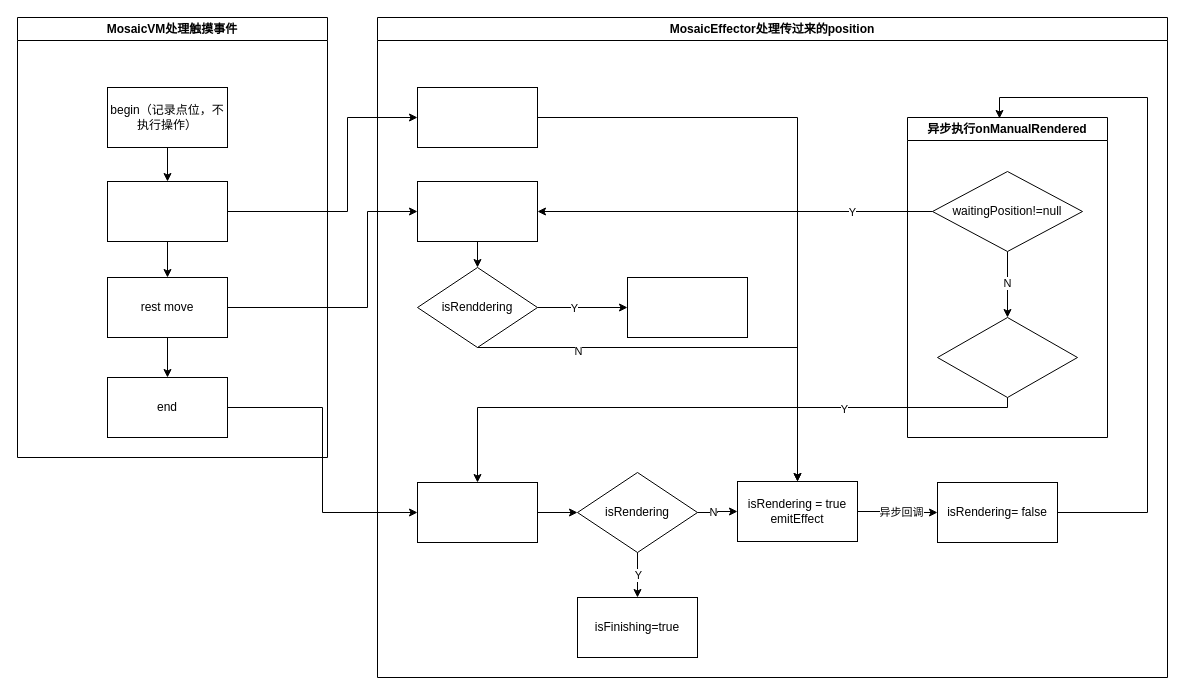
The diagram is 1185 pixels wide and 695 high, and some of its shapes have lost their labels. The shapes that lost their labels are listed below. From the top down, each one's centre as x and y in pixels, then its label:
At [477,117]: "startBrush（position）".
At [167,211]: "first move".
At [477,211]: "moveBrush（position）".
At [687,307]: "waitingPostion .add(position )".
At [1007,357]: "isFinishing".
At [477,512]: "finishBrush".
